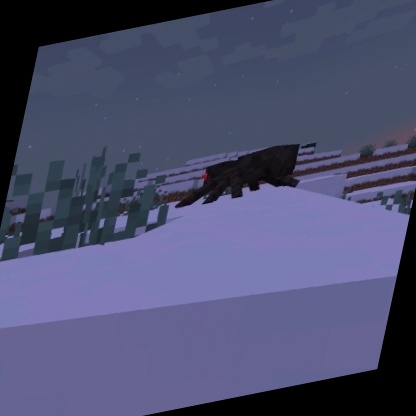spider: (171, 137, 309, 214)
